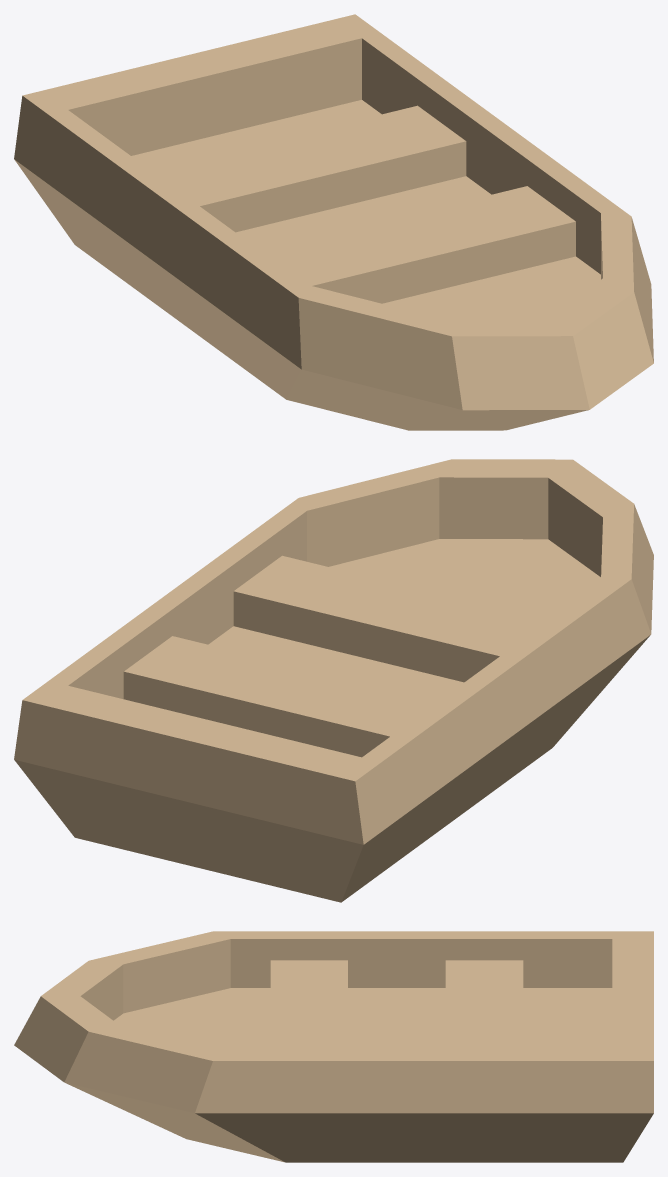
Rendered from boat_027.glb.
3 renders of one model, top to bottom at view 1: azimuth 30°, elevation 25°; view 2: azimuth 150°, elevation 25°; view 3: azimuth 270°, elevation 25°, orthographic. The views are drawn at different scales.
Visible parts, largest first — view 1: boat_027; view 2: boat_027; view 3: boat_027.
Boxes of the visible parts, left/top/right/bottom form: boat_027: left=14, top=14, right=653, bottom=430; boat_027: left=14, top=459, right=653, bottom=902; boat_027: left=14, top=931, right=653, bottom=1162.
Bounding box in the file's own units: 1.78 × 0.7 × 3.55.
